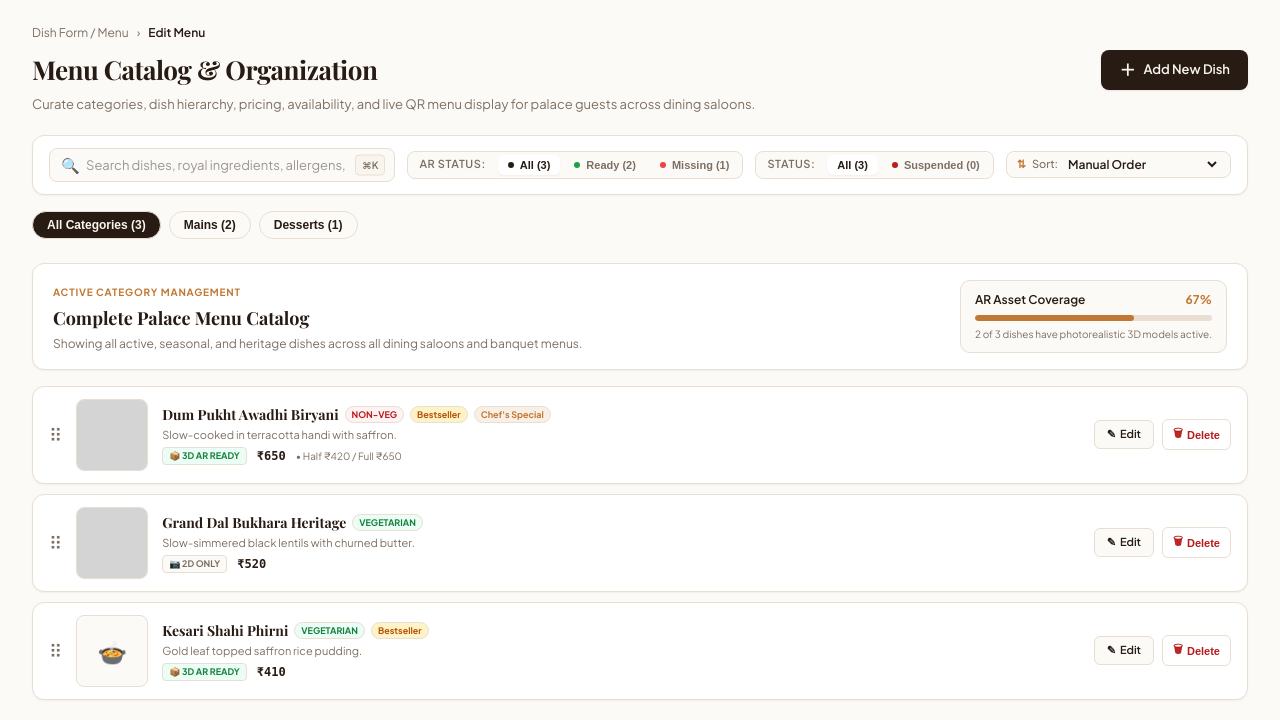
Test case: MenuCatalog Component Suite › Filters dishes by AR status pills (Ready vs Missing)
The image size is (1280, 720).
Expected: the heading "Dum Pukht Awadhi Biryani" is shown, [162, 404, 339, 425]
Step 1. Click the button "Missing (1)" → (695, 164), box [650, 154, 739, 174]
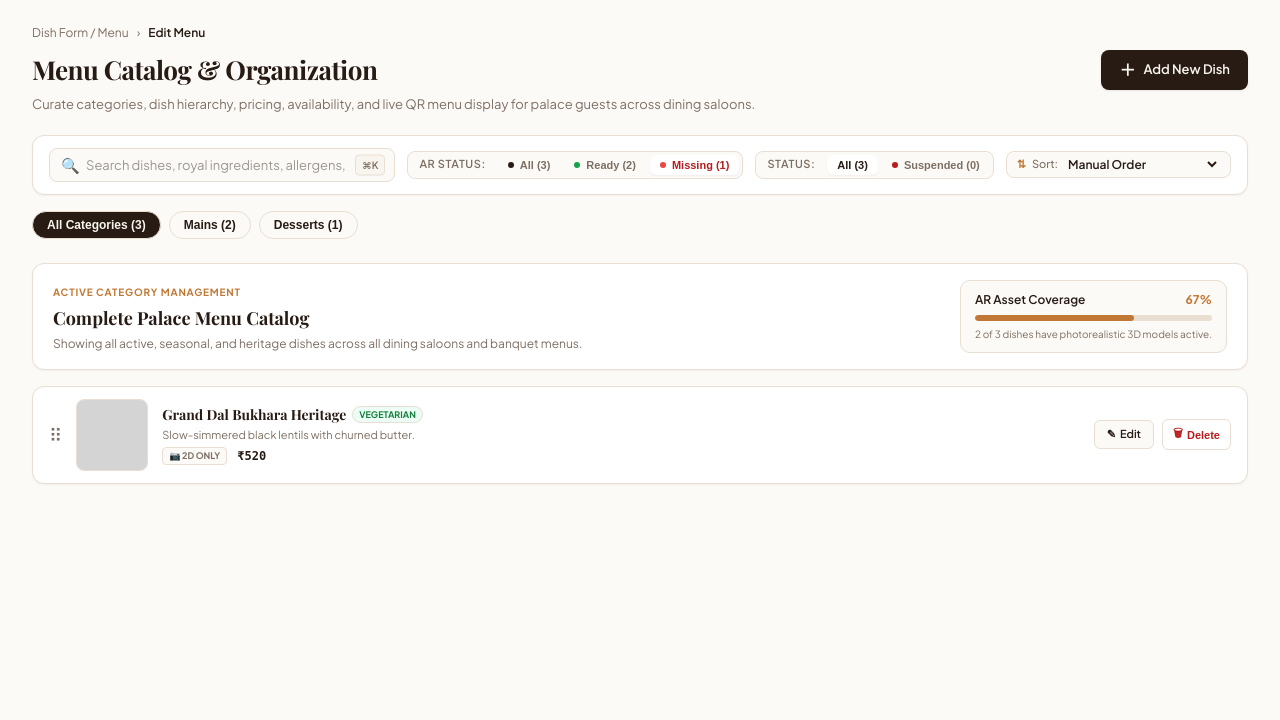
Expected: the heading "Grand Dal Bukhara Heritage" is shown, [162, 404, 346, 425]
Expected: the heading "Dum Pukht Awadhi Biryani" is gone
